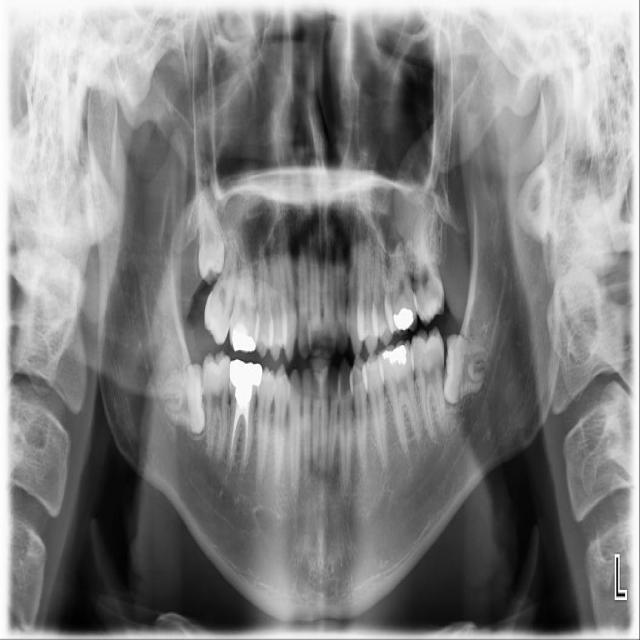Crown: (230, 358, 262, 386)
Filling: (228, 321, 260, 353), (392, 308, 417, 332), (379, 346, 408, 366)
Root Canal Treatment: (230, 413, 238, 459), (244, 418, 251, 461), (597, 538, 603, 547)
impacted tooth: (151, 365, 204, 433), (443, 335, 491, 402), (196, 190, 226, 279)
